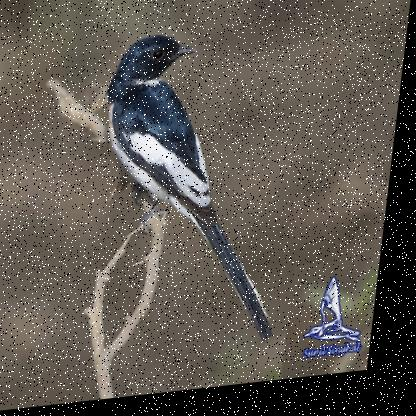Burung: (83, 24, 312, 367)
